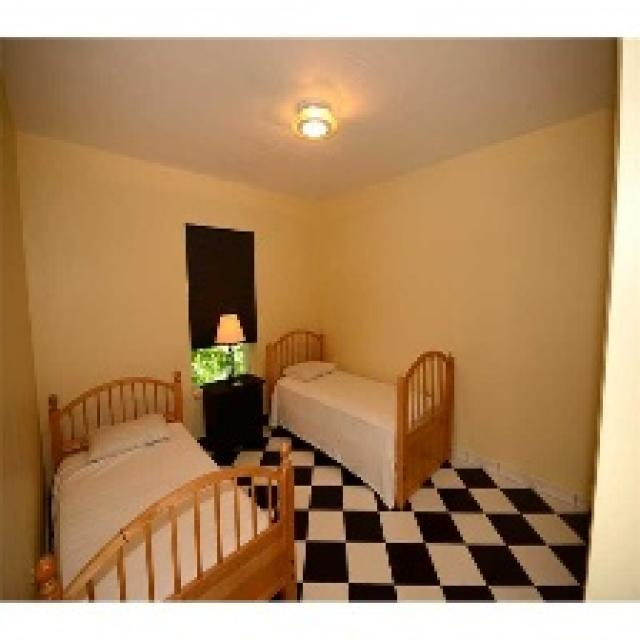Bed: (32, 369, 297, 600), (263, 328, 454, 508)
